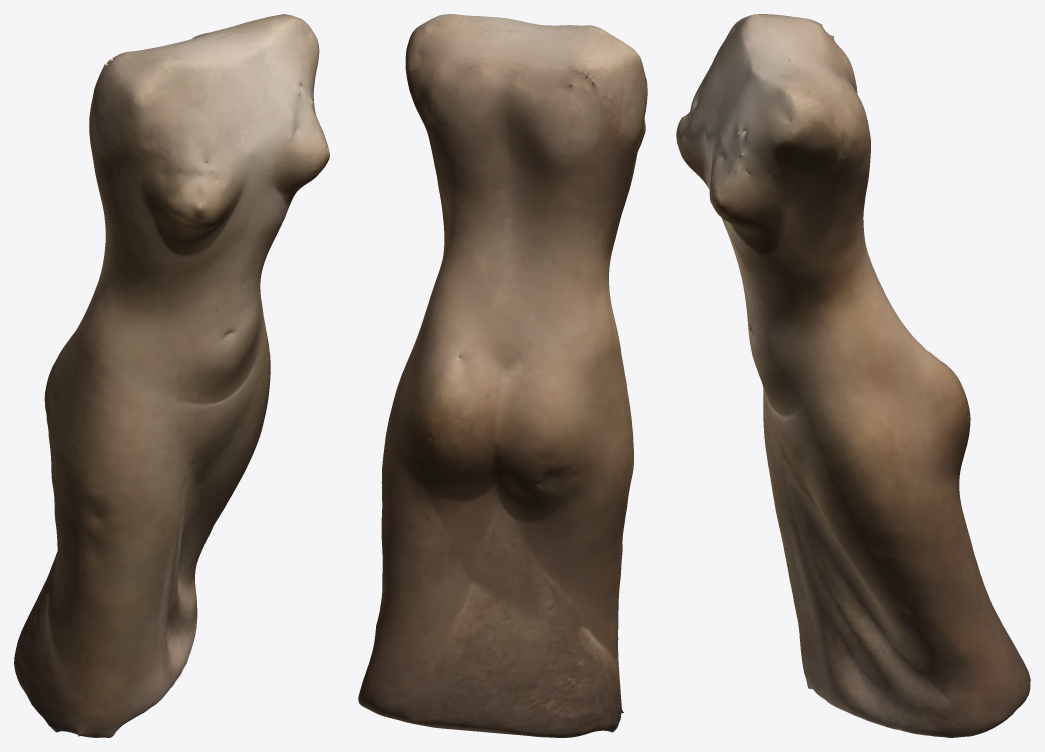
Rendered from preview-3b8fd391c55f.glb.
3 renders of one model, left to right at view 1: azimuth 30°, elevation 25°; view 2: azimuth 150°, elevation 25°; view 3: azimuth 270°, elevation 25°, orthographic. The views are drawn at different scales.
Parts seen in each view (by area): view 1: Object_2; view 2: Object_2; view 3: Object_2.
Boxes of the visible parts, <box> form: Object_2: <box>14,14,329,737</box>; Object_2: <box>358,14,647,737</box>; Object_2: <box>676,14,1030,737</box>.
Size of the model in its own units: 52.39 by 142 by 66.41.
1 material, 1 textured.
